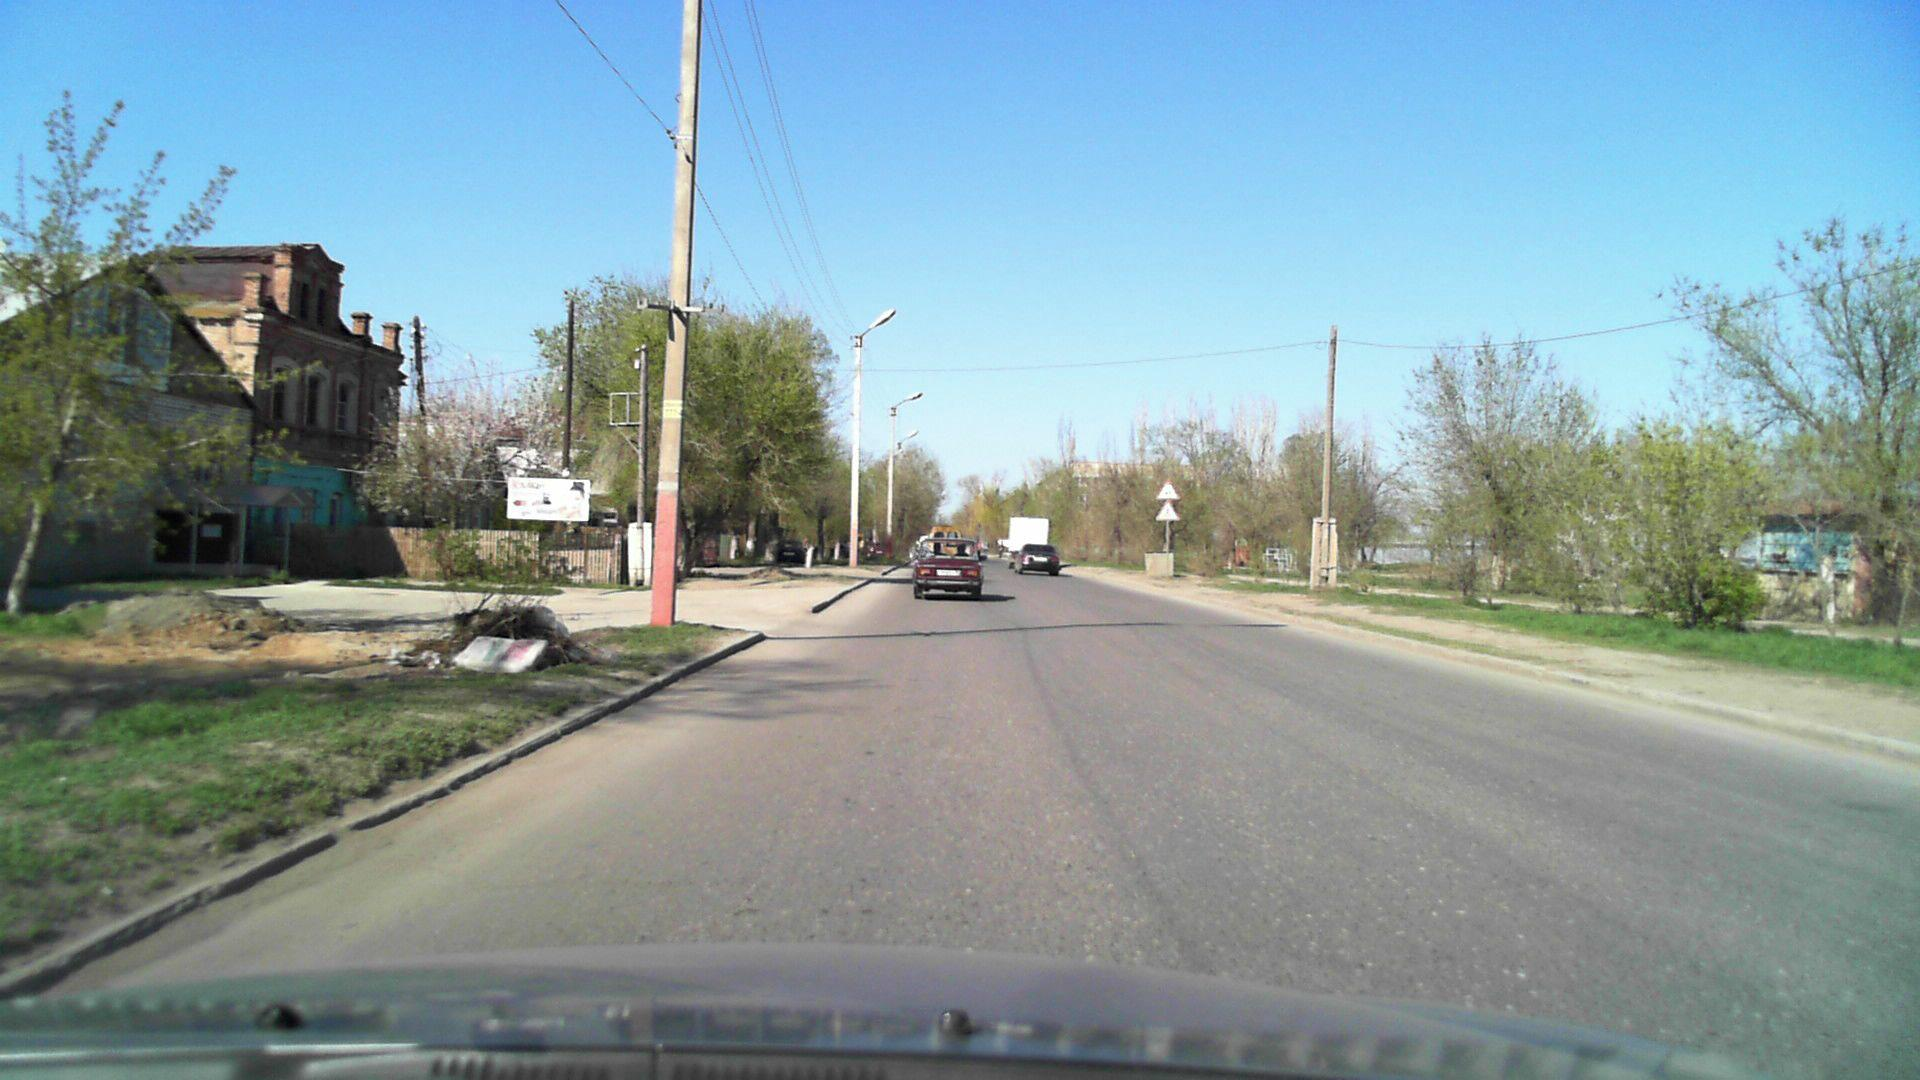1_12_2: (1155, 479, 1182, 500)
1_22: (1154, 501, 1180, 522)
